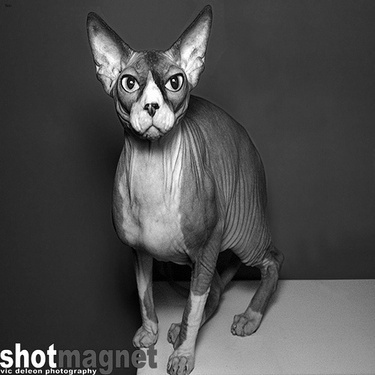cat: (84, 6, 286, 372)
